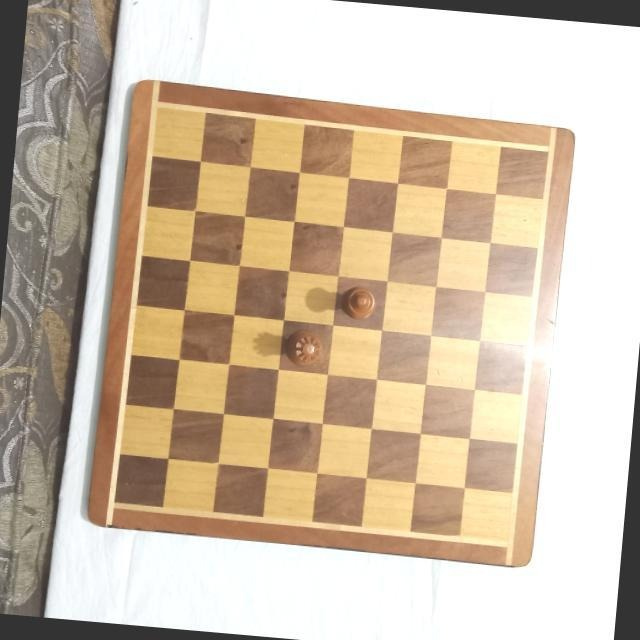white-king: (339, 284, 376, 320)
white-queen: (281, 327, 323, 366)
